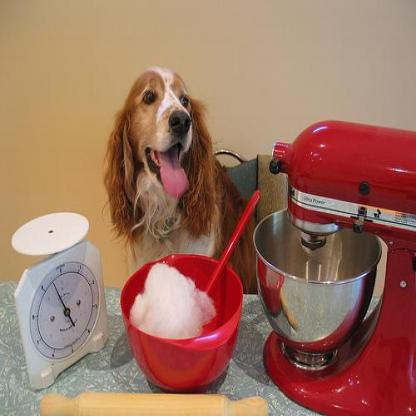Welsh_springer_spaniel: (96, 61, 264, 313)
